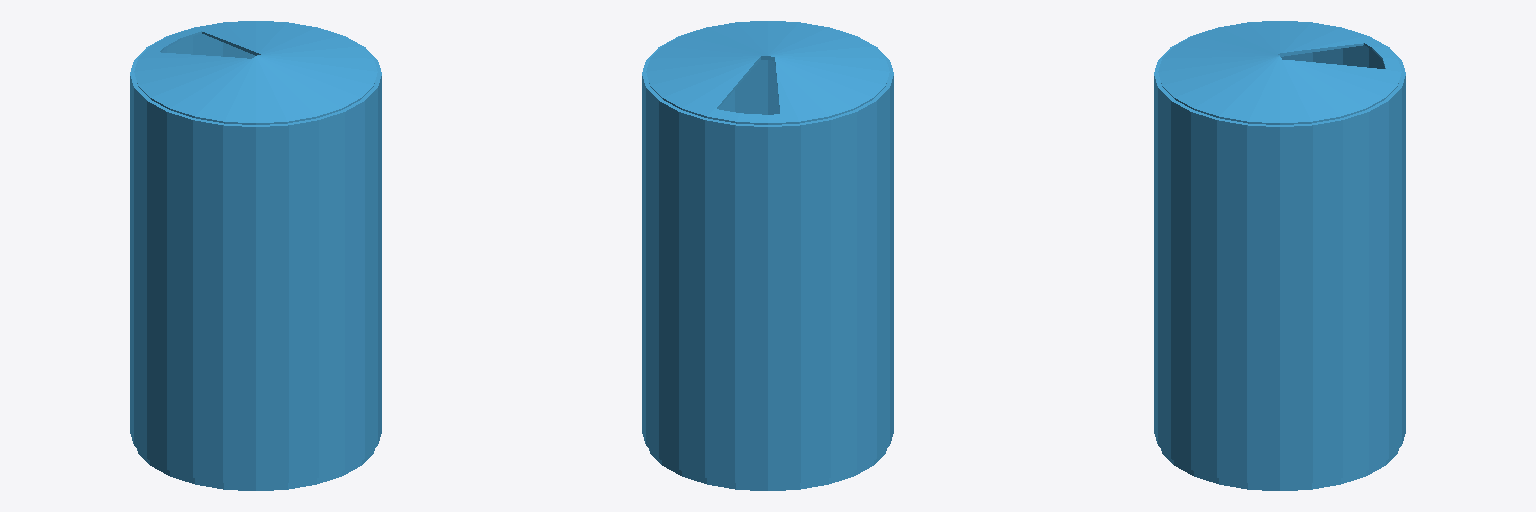
robot.urdf — partnet_29bc4b2e86b91d392e06d87a0fadf00:
<robot name="partnet_29bc4b2e86b91d392e06d87a0fadf00">
    <link name="base" />
    <link name="link_0">
        <visual name="shape">
            <origin xyz="0 0 0" />
            <geometry>
                <mesh filename="textured_objs/model_normalized.obj" />
            </geometry>
        </visual>
         <collision>
            <origin xyz="0 0 0" />
            <geometry>
                <mesh filename="new_objs/collision-0.obj" />
            </geometry>
        </collision>
         <collision>
            <origin xyz="0 0 0" />
            <geometry>
                <mesh filename="new_objs/collision-1.obj" />
            </geometry>
        </collision>
         <collision>
            <origin xyz="0 0 0" />
            <geometry>
                <mesh filename="new_objs/collision-2.obj" />
            </geometry>
        </collision>
         <collision>
            <origin xyz="0 0 0" />
            <geometry>
                <mesh filename="new_objs/collision-3.obj" />
            </geometry>
        </collision>
         <collision>
            <origin xyz="0 0 0" />
            <geometry>
                <mesh filename="new_objs/collision-4.obj" />
            </geometry>
        </collision>
         <collision>
            <origin xyz="0 0 0" />
            <geometry>
                <mesh filename="new_objs/collision-5.obj" />
            </geometry>
        </collision>
         <collision>
            <origin xyz="0 0 0" />
            <geometry>
                <mesh filename="new_objs/collision-6.obj" />
            </geometry>
        </collision>
         <collision>
            <origin xyz="0 0 0" />
            <geometry>
                <mesh filename="new_objs/collision-7.obj" />
            </geometry>
        </collision>
         <collision>
            <origin xyz="0 0 0" />
            <geometry>
                <mesh filename="new_objs/collision-8.obj" />
            </geometry>
        </collision>
         <collision>
            <origin xyz="0 0 0" />
            <geometry>
                <mesh filename="new_objs/collision-9.obj" />
            </geometry>
        </collision>
         <collision>
            <origin xyz="0 0 0" />
            <geometry>
                <mesh filename="new_objs/collision-10.obj" />
            </geometry>
        </collision>
         <collision>
            <origin xyz="0 0 0" />
            <geometry>
                <mesh filename="new_objs/collision-11.obj" />
            </geometry>
        </collision>
         <collision>
            <origin xyz="0 0 0" />
            <geometry>
                <mesh filename="new_objs/collision-12.obj" />
            </geometry>
        </collision>
         <collision>
            <origin xyz="0 0 0" />
            <geometry>
                <mesh filename="new_objs/collision-13.obj" />
            </geometry>
        </collision>
         <collision>
            <origin xyz="0 0 0" />
            <geometry>
                <mesh filename="new_objs/collision-14.obj" />
            </geometry>
        </collision>
         <collision>
            <origin xyz="0 0 0" />
            <geometry>
                <mesh filename="new_objs/collision-15.obj" />
            </geometry>
        </collision>
         <collision>
            <origin xyz="0 0 0" />
            <geometry>
                <mesh filename="new_objs/collision-16.obj" />
            </geometry>
        </collision>
         <collision>
            <origin xyz="0 0 0" />
            <geometry>
                <mesh filename="new_objs/collision-17.obj" />
            </geometry>
        </collision>
         <collision>
            <origin xyz="0 0 0" />
            <geometry>
                <mesh filename="new_objs/collision-18.obj" />
            </geometry>
        </collision>
         <collision>
            <origin xyz="0 0 0" />
            <geometry>
                <mesh filename="new_objs/collision-19.obj" />
            </geometry>
        </collision>
         <collision>
            <origin xyz="0 0 0" />
            <geometry>
                <mesh filename="new_objs/collision-20.obj" />
            </geometry>
        </collision>
         <collision>
            <origin xyz="0 0 0" />
            <geometry>
                <mesh filename="new_objs/collision-21.obj" />
            </geometry>
        </collision>
         <collision>
            <origin xyz="0 0 0" />
            <geometry>
                <mesh filename="new_objs/collision-22.obj" />
            </geometry>
        </collision>
         <collision>
            <origin xyz="0 0 0" />
            <geometry>
                <mesh filename="new_objs/collision-23.obj" />
            </geometry>
        </collision>
         <collision>
            <origin xyz="0 0 0" />
            <geometry>
                <mesh filename="new_objs/collision-24.obj" />
            </geometry>
        </collision>
         <collision>
            <origin xyz="0 0 0" />
            <geometry>
                <mesh filename="new_objs/collision-25.obj" />
            </geometry>
        </collision>
         <collision>
            <origin xyz="0 0 0" />
            <geometry>
                <mesh filename="new_objs/collision-26.obj" />
            </geometry>
        </collision>
         <collision>
            <origin xyz="0 0 0" />
            <geometry>
                <mesh filename="new_objs/collision-27.obj" />
            </geometry>
        </collision>
         <collision>
            <origin xyz="0 0 0" />
            <geometry>
                <mesh filename="new_objs/collision-28.obj" />
            </geometry>
        </collision>
         <collision>
            <origin xyz="0 0 0" />
            <geometry>
                <mesh filename="new_objs/collision-29.obj" />
            </geometry>
        </collision>
         <collision>
            <origin xyz="0 0 0" />
            <geometry>
                <mesh filename="new_objs/collision-30.obj" />
            </geometry>
        </collision>
         <collision>
            <origin xyz="0 0 0" />
            <geometry>
                <mesh filename="new_objs/collision-31.obj" />
            </geometry>
        </collision>
         <collision>
            <origin xyz="0 0 0" />
            <geometry>
                <mesh filename="new_objs/collision-32.obj" />
            </geometry>
        </collision>
         <collision>
            <origin xyz="0 0 0" />
            <geometry>
                <mesh filename="new_objs/collision-33.obj" />
            </geometry>
        </collision>
         <collision>
            <origin xyz="0 0 0" />
            <geometry>
                <mesh filename="new_objs/collision-34.obj" />
            </geometry>
        </collision>
         <collision>
            <origin xyz="0 0 0" />
            <geometry>
                <mesh filename="new_objs/collision-35.obj" />
            </geometry>
        </collision>
         <collision>
            <origin xyz="0 0 0" />
            <geometry>
                <mesh filename="new_objs/collision-36.obj" />
            </geometry>
        </collision>
         <collision>
            <origin xyz="0 0 0" />
            <geometry>
                <mesh filename="new_objs/collision-37.obj" />
            </geometry>
        </collision>
         <collision>
            <origin xyz="0 0 0" />
            <geometry>
                <mesh filename="new_objs/collision-38.obj" />
            </geometry>
        </collision>
         <collision>
            <origin xyz="0 0 0" />
            <geometry>
                <mesh filename="new_objs/collision-39.obj" />
            </geometry>
        </collision>
         <collision>
            <origin xyz="0 0 0" />
            <geometry>
                <mesh filename="new_objs/collision-40.obj" />
            </geometry>
        </collision>
         <collision>
            <origin xyz="0 0 0" />
            <geometry>
                <mesh filename="new_objs/collision-41.obj" />
            </geometry>
        </collision>
         <collision>
            <origin xyz="0 0 0" />
            <geometry>
                <mesh filename="new_objs/collision-42.obj" />
            </geometry>
        </collision>
         <collision>
            <origin xyz="0 0 0" />
            <geometry>
                <mesh filename="new_objs/collision-43.obj" />
            </geometry>
        </collision>
         <collision>
            <origin xyz="0 0 0" />
            <geometry>
                <mesh filename="new_objs/collision-44.obj" />
            </geometry>
        </collision>
         <collision>
            <origin xyz="0 0 0" />
            <geometry>
                <mesh filename="new_objs/collision-45.obj" />
            </geometry>
        </collision>
         <collision>
            <origin xyz="0 0 0" />
            <geometry>
                <mesh filename="new_objs/collision-46.obj" />
            </geometry>
        </collision>
         <collision>
            <origin xyz="0 0 0" />
            <geometry>
                <mesh filename="new_objs/collision-47.obj" />
            </geometry>
        </collision>
         <collision>
            <origin xyz="0 0 0" />
            <geometry>
                <mesh filename="new_objs/collision-48.obj" />
            </geometry>
        </collision>
         <collision>
            <origin xyz="0 0 0" />
            <geometry>
                <mesh filename="new_objs/collision-49.obj" />
            </geometry>
        </collision>
         <collision>
            <origin xyz="0 0 0" />
            <geometry>
                <mesh filename="new_objs/collision-50.obj" />
            </geometry>
        </collision>
         <collision>
            <origin xyz="0 0 0" />
            <geometry>
                <mesh filename="new_objs/collision-51.obj" />
            </geometry>
        </collision>
         <collision>
            <origin xyz="0 0 0" />
            <geometry>
                <mesh filename="new_objs/collision-52.obj" />
            </geometry>
        </collision>
         <collision>
            <origin xyz="0 0 0" />
            <geometry>
                <mesh filename="new_objs/collision-53.obj" />
            </geometry>
        </collision>
         <collision>
            <origin xyz="0 0 0" />
            <geometry>
                <mesh filename="new_objs/collision-54.obj" />
            </geometry>
        </collision>
         <collision>
            <origin xyz="0 0 0" />
            <geometry>
                <mesh filename="new_objs/collision-55.obj" />
            </geometry>
        </collision>
         <collision>
            <origin xyz="0 0 0" />
            <geometry>
                <mesh filename="new_objs/collision-56.obj" />
            </geometry>
        </collision>
         <collision>
            <origin xyz="0 0 0" />
            <geometry>
                <mesh filename="new_objs/collision-57.obj" />
            </geometry>
        </collision>
         <collision>
            <origin xyz="0 0 0" />
            <geometry>
                <mesh filename="new_objs/collision-58.obj" />
            </geometry>
        </collision>
         <collision>
            <origin xyz="0 0 0" />
            <geometry>
                <mesh filename="new_objs/collision-59.obj" />
            </geometry>
        </collision>
         <collision>
            <origin xyz="0 0 0" />
            <geometry>
                <mesh filename="new_objs/collision-60.obj" />
            </geometry>
        </collision>
         <collision>
            <origin xyz="0 0 0" />
            <geometry>
                <mesh filename="new_objs/collision-61.obj" />
            </geometry>
        </collision>
         <collision>
            <origin xyz="0 0 0" />
            <geometry>
                <mesh filename="new_objs/collision-62.obj" />
            </geometry>
        </collision>
         <collision>
            <origin xyz="0 0 0" />
            <geometry>
                <mesh filename="new_objs/collision-63.obj" />
            </geometry>
        </collision>
         <collision>
            <origin xyz="0 0 0" />
            <geometry>
                <mesh filename="new_objs/collision-64.obj" />
            </geometry>
        </collision>
         <collision>
            <origin xyz="0 0 0" />
            <geometry>
                <mesh filename="new_objs/collision-65.obj" />
            </geometry>
        </collision>
         <collision>
            <origin xyz="0 0 0" />
            <geometry>
                <mesh filename="new_objs/collision-66.obj" />
            </geometry>
        </collision>
         <collision>
            <origin xyz="0 0 0" />
            <geometry>
                <mesh filename="new_objs/collision-67.obj" />
            </geometry>
        </collision>
         <collision>
            <origin xyz="0 0 0" />
            <geometry>
                <mesh filename="new_objs/collision-68.obj" />
            </geometry>
        </collision>
         <collision>
            <origin xyz="0 0 0" />
            <geometry>
                <mesh filename="new_objs/collision-69.obj" />
            </geometry>
        </collision>
         <collision>
            <origin xyz="0 0 0" />
            <geometry>
                <mesh filename="new_objs/collision-70.obj" />
            </geometry>
        </collision>
         <collision>
            <origin xyz="0 0 0" />
            <geometry>
                <mesh filename="new_objs/collision-71.obj" />
            </geometry>
        </collision>
         <collision>
            <origin xyz="0 0 0" />
            <geometry>
                <mesh filename="new_objs/collision-72.obj" />
            </geometry>
        </collision>
         <collision>
            <origin xyz="0 0 0" />
            <geometry>
                <mesh filename="new_objs/collision-73.obj" />
            </geometry>
        </collision>
 </link>
    <joint name="joint_0" type="fixed">
        <origin rpy="1.570796326794897 0 -1.570796326794897" xyz="0 0 0" />
        <child link="link_0" />
        <parent link="base" />
    </joint>
</robot>

--- Render facts (derived) ---
3 views of the same robot in one strip: view 1: azimuth 30°, elevation 25°; view 2: azimuth 150°, elevation 25°; view 3: azimuth 270°, elevation 25° (orthographic).
Model partnet_29bc4b2e86b91d392e06d87a0fadf00 with 2 links and 1 joints (1 fixed), rooted at base, posed all joints at 0.
Links seen in each view (by area): view 1: link_0; view 2: link_0; view 3: link_0.
Boxes of the visible links, left/top/right/bottom form: link_0: left=130, top=21, right=381, bottom=490; link_0: left=642, top=21, right=893, bottom=490; link_0: left=1154, top=21, right=1405, bottom=490.
Bounding box of the posed robot: 1.06 × 1.06 × 1.78 m (x, y, z).
Meshes: 1 distinct files referenced, 1 mesh visuals loaded (1 OBJ).